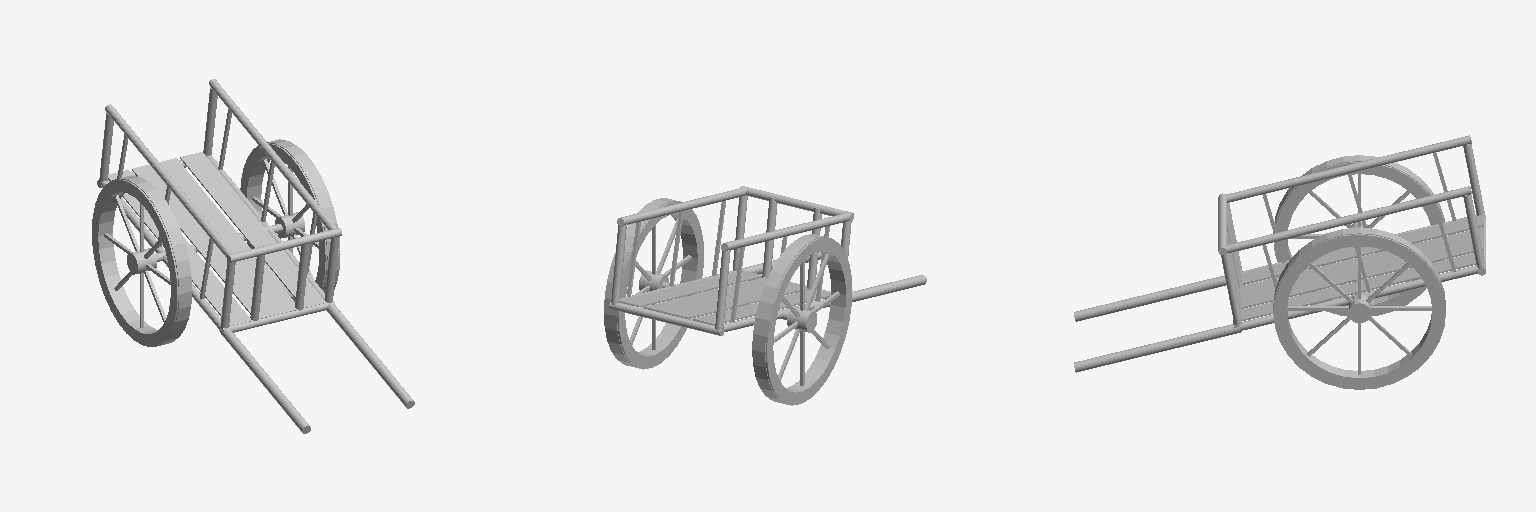
The model's file is portal.obj.
The picture shows the model from 3 angles: view 1: azimuth 30°, elevation 25°; view 2: azimuth 150°, elevation 25°; view 3: azimuth 270°, elevation 25°; orthographic projection.
Visible parts, largest first — view 1: Cube_015, Cylinder_018, Cube_014, Cylinder_002, Cylinder_000, Cube_016, Cylinder_007, Cylinder_008, Cylinder_014, Cylinder_017, Cylinder_019, Cylinder_016 (+9 smaller); view 2: Cylinder_018, Cylinder_002, Cylinder_000, Cube_015, Cylinder_019, Cube_014, Cylinder_007, Cylinder_008, Cylinder_013, Cube_016, Cylinder_016, Cylinder_014 (+3 smaller); view 3: Cylinder_002, Cube_015, Cylinder_018, Cube_014, Cylinder_007, Cylinder_008, Cube_016, Cylinder_017, Cylinder_014, Cylinder_006, Cylinder_019, Cylinder_000 (+4 smaller).
Part boxes in pixels (left/top/right/bottom): Cube_015: left=132, top=158, right=297, bottom=318; Cylinder_018: left=92, top=177, right=191, bottom=346; Cube_014: left=180, top=152, right=325, bottom=307; Cylinder_002: left=240, top=141, right=340, bottom=301; Cylinder_000: left=106, top=176, right=190, bottom=346; Cube_016: left=108, top=170, right=251, bottom=325; Cylinder_007: left=105, top=104, right=233, bottom=257; Cylinder_008: left=209, top=79, right=336, bottom=229; Cylinder_014: left=219, top=328, right=310, bottom=433; Cylinder_017: left=326, top=303, right=414, bottom=408; Cylinder_019: left=254, top=139, right=338, bottom=292; Cylinder_016: left=227, top=228, right=341, bottom=262; Cylinder_018: left=752, top=236, right=852, bottom=404; Cylinder_002: left=604, top=200, right=703, bottom=368; Cylinder_000: left=753, top=234, right=837, bottom=405; Cube_015: left=644, top=277, right=808, bottom=318; Cylinder_019: left=605, top=198, right=681, bottom=369; Cube_014: left=618, top=270, right=761, bottom=307; Cylinder_007: left=721, top=213, right=849, bottom=251; Cylinder_008: left=617, top=188, right=745, bottom=225; Cylinder_013: left=609, top=302, right=724, bottom=335; Cube_016: left=692, top=289, right=830, bottom=325; Cylinder_016: left=740, top=186, right=853, bottom=220; Cylinder_014: left=852, top=275, right=926, bottom=301; Cylinder_002: left=1274, top=234, right=1444, bottom=389; Cube_015: left=1239, top=227, right=1483, bottom=308; Cylinder_018: left=1274, top=162, right=1442, bottom=316; Cube_014: left=1240, top=250, right=1483, bottom=320; Cylinder_007: left=1224, top=135, right=1471, bottom=202; Cylinder_008: left=1224, top=186, right=1471, bottom=252; Cube_016: left=1240, top=214, right=1483, bottom=284; Cylinder_017: left=1074, top=324, right=1241, bottom=372; Cylinder_014: left=1074, top=275, right=1226, bottom=321; Cylinder_006: left=1241, top=265, right=1478, bottom=330; Cylinder_019: left=1273, top=227, right=1445, bottom=389; Cylinder_000: left=1273, top=155, right=1444, bottom=316.
Size of the model in its own units: 88.98 by 96.32 by 190.